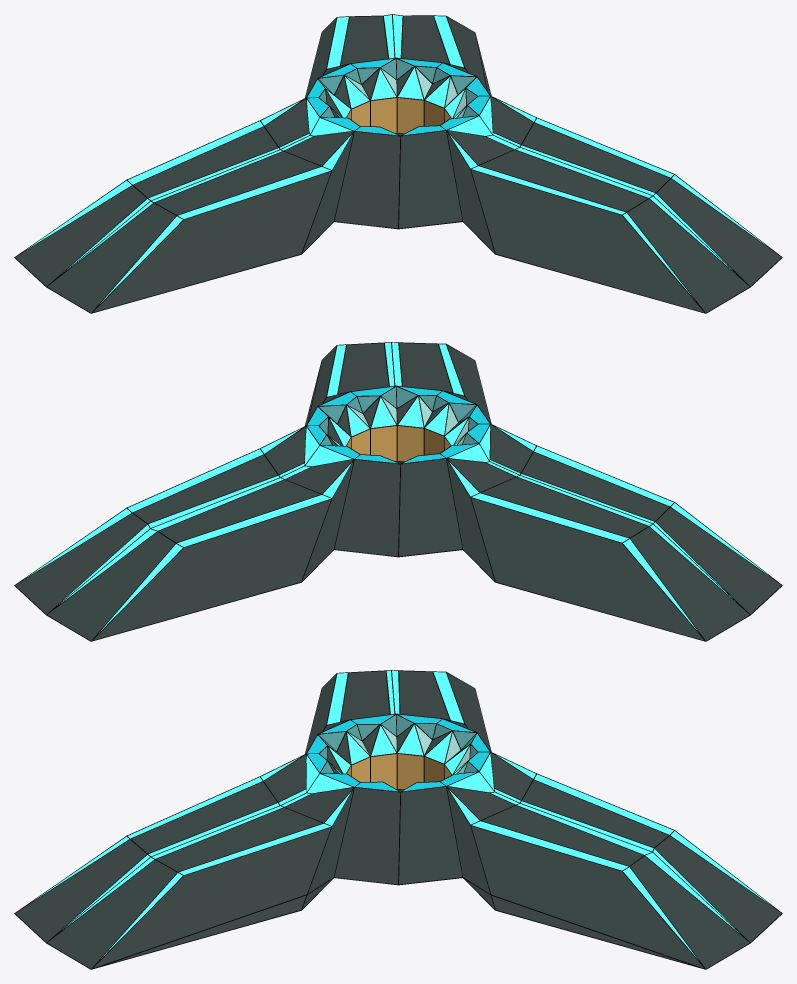
File: project-omnitrix2.glb
The picture shows the model from 3 angles, top to bottom: view 1: azimuth 30°, elevation 25°; view 2: azimuth 150°, elevation 25°; view 3: azimuth 270°, elevation 25°; orthographic projection.
Visible parts, largest first — view 1: jaded blu - chassis, Crown, Wireframe, Emissive blu, Darker blu, Gear.001; view 2: jaded blu - chassis, Crown, Wireframe, Emissive blu, Darker blu, Gear.001; view 3: jaded blu - chassis, Crown, Wireframe, Emissive blu, Darker blu, Gear.001.
Part boxes in pixels (x1,y1,x2,y2): jaded blu - chassis: (15,16,781,312); Crown: (25,15,766,303); Wireframe: (14,14,782,313); Emissive blu: (307,58,489,135); Darker blu: (319,59,477,117); Gear.001: (346,68,465,117); jaded blu - chassis: (15,343,781,640); Crown: (26,342,768,632); Wireframe: (14,342,782,641); Emissive blu: (307,386,489,463); Darker blu: (319,387,477,445); Gear.001: (349,397,468,444); jaded blu - chassis: (15,671,781,968); Crown: (32,670,771,959); Wireframe: (14,670,782,969); Emissive blu: (307,714,489,791); Darker blu: (319,715,477,773); Gear.001: (334,725,470,773).
Bounding box in the file's own units: 10.49 × 1.8 × 11.98.
